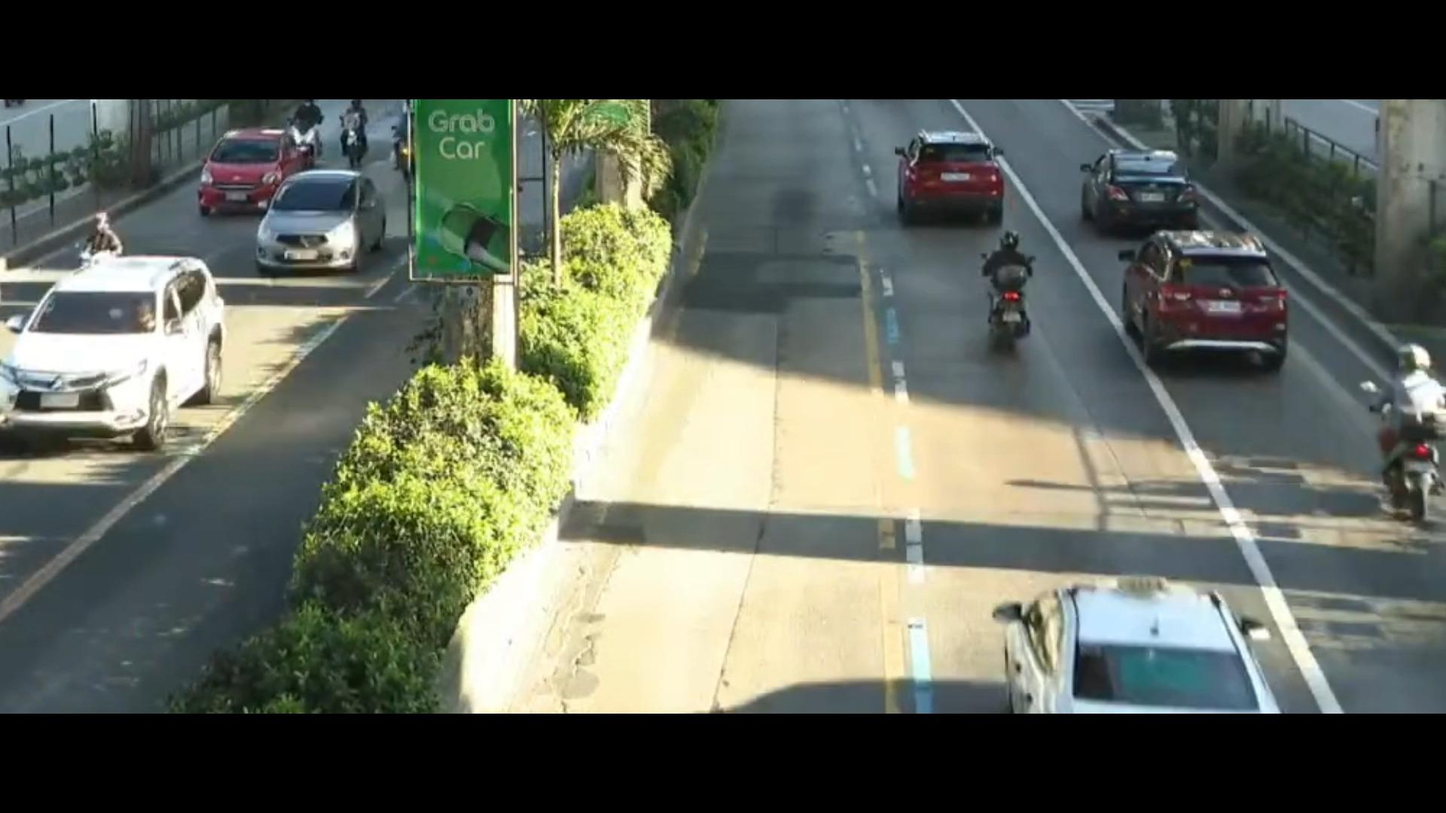Motorcycle: (1352, 345, 1446, 515), (969, 224, 1042, 369), (328, 96, 384, 161), (279, 104, 322, 160), (78, 217, 123, 265)
SUV: (0, 247, 239, 464), (1111, 213, 1301, 374), (873, 126, 1019, 227)
Sedan: (925, 540, 1317, 714), (251, 166, 390, 280), (1064, 138, 1210, 233), (196, 115, 311, 209)
